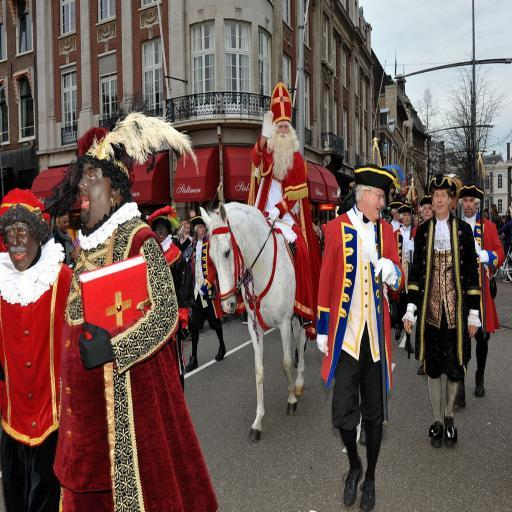Horse: (198, 200, 328, 443)
